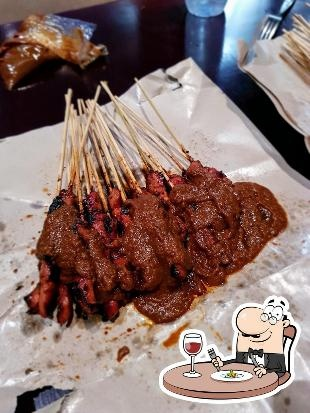sate_madura: (37, 85, 234, 322)
